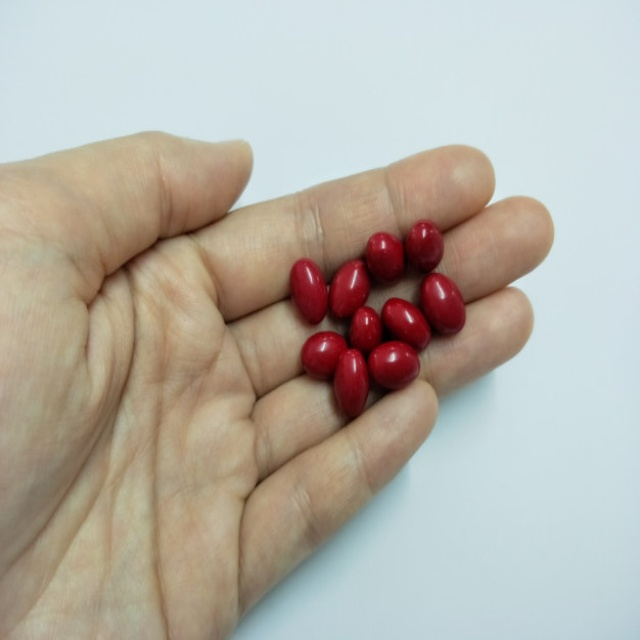pill: (410, 198, 456, 246), (361, 251, 413, 286), (325, 255, 359, 305), (284, 188, 319, 235), (372, 216, 420, 249), (397, 161, 436, 199), (357, 168, 396, 206), (293, 243, 340, 274), (325, 189, 359, 230), (339, 225, 370, 254)
